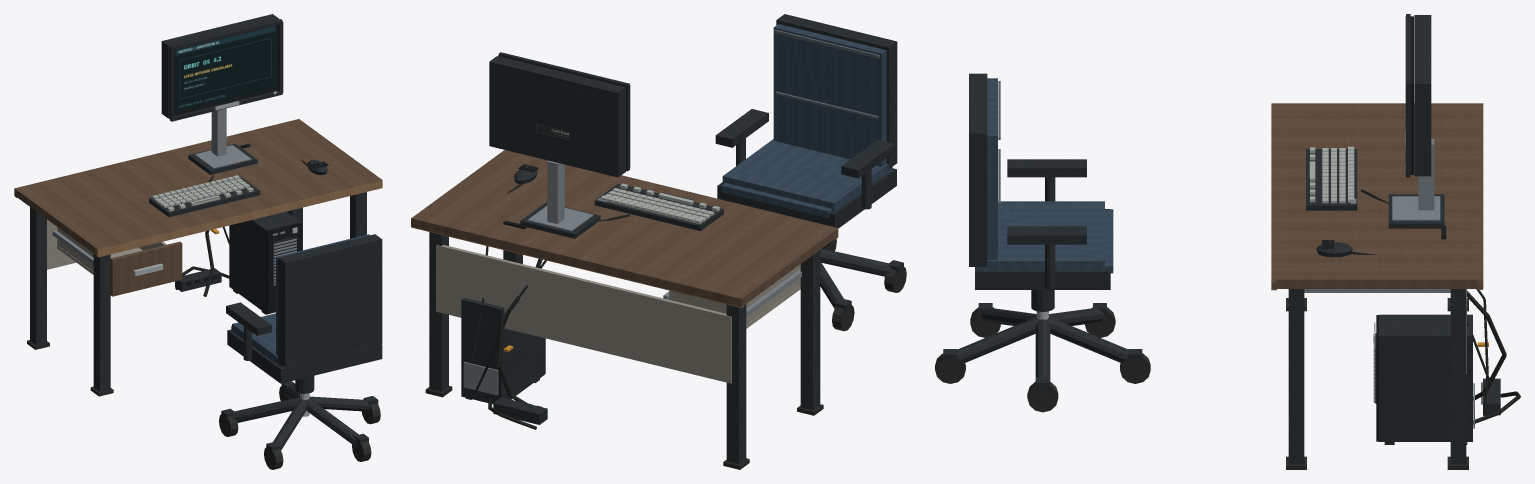
The model's file is ProjectZ_Office_Desk_Computer.glb.
The picture shows the model from 3 angles, left to right: view 1: azimuth 30°, elevation 25°; view 2: azimuth 150°, elevation 25°; view 3: azimuth 270°, elevation 25°; orthographic projection. The views are drawn at different scales.
Parts seen in each view (by area): view 1: DESK_Top_Laminate_1460x740x35mm, CHAIR_BackFrame, MONITOR_Display_Offline_518x306mm, PC_TowerShell, DRAWER_FrontPanel, DESK_Front_Edge_Trim, DESK_Leg_LEFT_FRONT, CHAIR_SeatShell, DESK_Leg_LEFT_BACK, KEYBOARD_Keycaps_IndividualGeometry_BatchedForRendering, MONITOR_BackHousing_560mm, PC_FrontPanel (+20 smaller); view 2: DESK_Top_Laminate_1460x740x35mm, DESK_RearModestyPanel, CHAIR_BackFabricUpholstery, MONITOR_BackHousing_560mm, CHAIR_SeatFabricPad, PC_TowerShell, DESK_Leg_LEFT_FRONT, DESK_Leg_LEFT_BACK, CHAIR_BackFrame, DESK_Leg_RIGHT_BACK, CHAIR_SeatShell, KEYBOARD_Keycaps_IndividualGeometry_BatchedForRendering (+16 smaller); view 3: DESK_Top_Laminate_1460x740x35mm, PC_TowerShell, CHAIR_SeatFabricPad, CHAIR_BackFrame, DESK_Leg_RIGHT_FRONT, DESK_Leg_RIGHT_BACK, MONITOR_BackHousing_560mm, CHAIR_SeatShell, CHAIR_BackFabricUpholstery, KEYBOARD_Keycaps_IndividualGeometry_BatchedForRendering, KEYBOARD_FullSize_Chassis, CHAIR_ArmPad_LEFT (+13 smaller).
Boxes of the visible parts, x1,y1,x2,y2 form: DESK_Top_Laminate_1460x740x35mm: (14,119,381,254); CHAIR_BackFrame: (278,234,382,367); MONITOR_Display_Offline_518x306mm: (175,26,275,111); PC_TowerShell: (229,211,300,313); DRAWER_FrontPanel: (110,241,182,296); DESK_Front_Edge_Trim: (95,180,382,257); DESK_Leg_LEFT_FRONT: (93,254,110,391); CHAIR_SeatShell: (227,329,382,383); DESK_Leg_LEFT_BACK: (30,207,46,345); KEYBOARD_Keycaps_IndividualGeometry_BatchedForRendering: (152,175,253,211); MONITOR_BackHousing_560mm: (161,14,278,118); PC_FrontPanel: (266,222,301,314); DESK_Top_Laminate_1460x740x35mm: (411,150,838,306); DESK_RearModestyPanel: (436,245,731,383); CHAIR_BackFabricUpholstery: (773,24,886,166); MONITOR_BackHousing_560mm: (489,56,625,177); CHAIR_SeatFabricPad: (722,139,892,211); PC_TowerShell: (461,297,544,404); DESK_Leg_LEFT_FRONT: (800,250,820,410); DESK_Leg_LEFT_BACK: (726,304,746,464); CHAIR_BackFrame: (776,14,897,168); DESK_Leg_RIGHT_BACK: (429,232,448,391); CHAIR_SeatShell: (717,168,896,228); KEYBOARD_Keycaps_IndividualGeometry_BatchedForRendering: (600,183,719,224); DESK_Top_Laminate_1460x740x35mm: (1271,103,1483,288); PC_TowerShell: (1379,314,1472,441); CHAIR_SeatFabricPad: (978,201,1104,270); CHAIR_BackFrame: (969,73,987,266); DESK_Leg_RIGHT_FRONT: (1288,289,1304,464); DESK_Leg_RIGHT_BACK: (1450,289,1466,464); MONITOR_BackHousing_560mm: (1414,15,1431,176); CHAIR_SeatShell: (975,209,1110,289); CHAIR_BackFabricUpholstery: (987,78,997,259); KEYBOARD_Keycaps_IndividualGeometry_BatchedForRendering: (1310,146,1354,203); KEYBOARD_FullSize_Chassis: (1306,149,1357,210); CHAIR_ArmPad_LEFT: (1007,159,1086,177).
Size of the model in its own units: 1.46 by 1.4 by 2.05.
3 materials, 3 textured.
